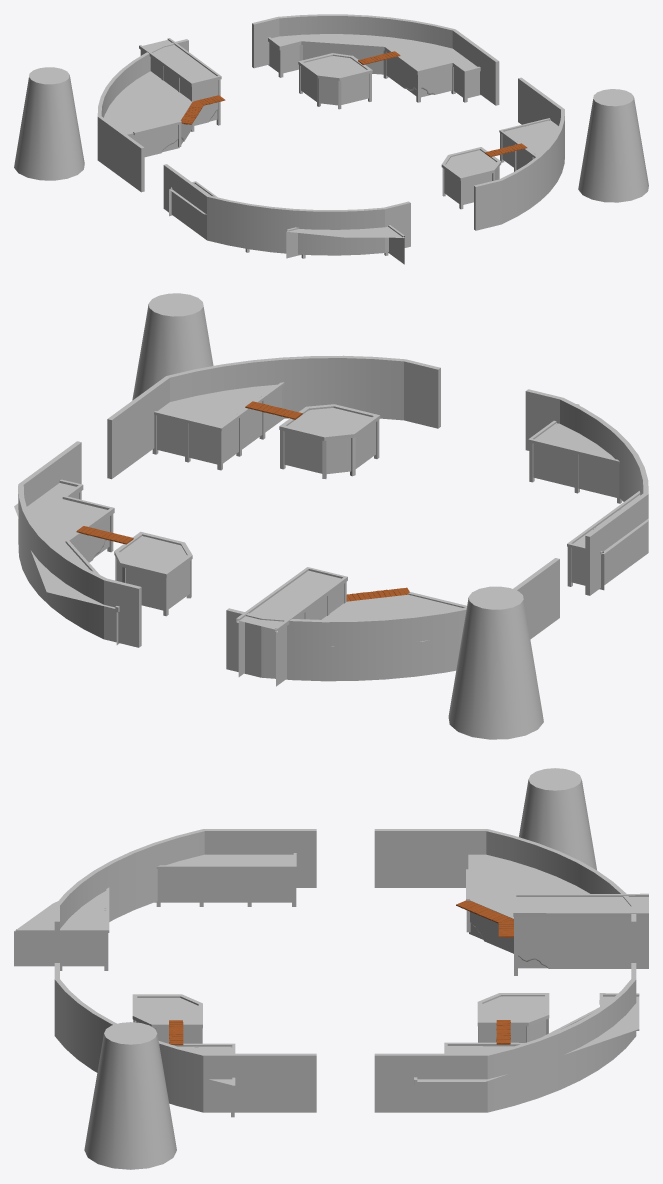
File: level_3.fbx
3 views of the same model, one above another, from view 1: azimuth 30°, elevation 25°; view 2: azimuth 150°, elevation 25°; view 3: azimuth 270°, elevation 25° (orthographic). The views are drawn at different scales.
Visible parts, largest first — view 1: Cube.007, Cube.022, Cube.066, Cube.001, Cube.011, Cube.012, Cube.013, Cube.021, Cube.018, Cube.056, Cube.037, Cube.005 (+2 smaller); view 2: Cube.007, Cube.022, Cube.018, Cube.066, Cube.001, Cube.021, Cube.056, Cube.012, Cube.013, Cube.011, Cube.050, Cube.020 (+4 smaller); view 3: Cube.007, Cube.066, Cube.012, Cube.020, Cube.022, Cube.011, Cube.056, Cube.013, Cube.021, Cube.001, Cube.005, Cube.050 (+3 smaller).
Boxes of the visible parts, bbox=[...] form: Cube.007: bbox=[97, 14, 564, 255]; Cube.022: bbox=[14, 67, 84, 180]; Cube.066: bbox=[578, 89, 648, 202]; Cube.001: bbox=[268, 34, 480, 97]; Cube.011: bbox=[104, 71, 192, 157]; Cube.012: bbox=[140, 40, 217, 125]; Cube.013: bbox=[301, 56, 368, 105]; Cube.021: bbox=[444, 150, 498, 204]; Cube.018: bbox=[502, 120, 558, 169]; Cube.056: bbox=[286, 226, 404, 264]; Cube.037: bbox=[268, 37, 480, 75]; Cube.005: bbox=[139, 38, 221, 86]; Cube.007: bbox=[18, 355, 648, 681]; Cube.022: bbox=[448, 586, 543, 739]; Cube.018: bbox=[157, 384, 283, 464]; Cube.066: bbox=[132, 293, 213, 400]; Cube.001: bbox=[14, 483, 119, 644]; Cube.021: bbox=[284, 408, 375, 474]; Cube.056: bbox=[533, 423, 616, 497]; Cube.012: bbox=[238, 570, 343, 686]; Cube.013: bbox=[117, 536, 189, 610]; Cube.011: bbox=[321, 594, 461, 646]; Cube.050: bbox=[279, 404, 380, 440]; Cube.020: bbox=[571, 495, 648, 590]; Cube.007: bbox=[54, 829, 636, 1112]; Cube.066: bbox=[84, 1022, 176, 1169]; Cube.012: bbox=[516, 897, 648, 968]; Cube.020: bbox=[154, 854, 293, 902]; Cube.022: bbox=[519, 768, 596, 870]; Cube.011: bbox=[468, 854, 589, 953]; Cube.056: bbox=[14, 891, 106, 966]; Cube.013: bbox=[482, 996, 546, 1042]; Cube.021: bbox=[136, 998, 198, 1043]; Cube.001: bbox=[417, 996, 639, 1081]; Cube.005: bbox=[513, 893, 648, 917]; Cube.050: bbox=[132, 994, 202, 1028].
Size of the model in its own units: 70.89 by 13.18 by 64.89.
